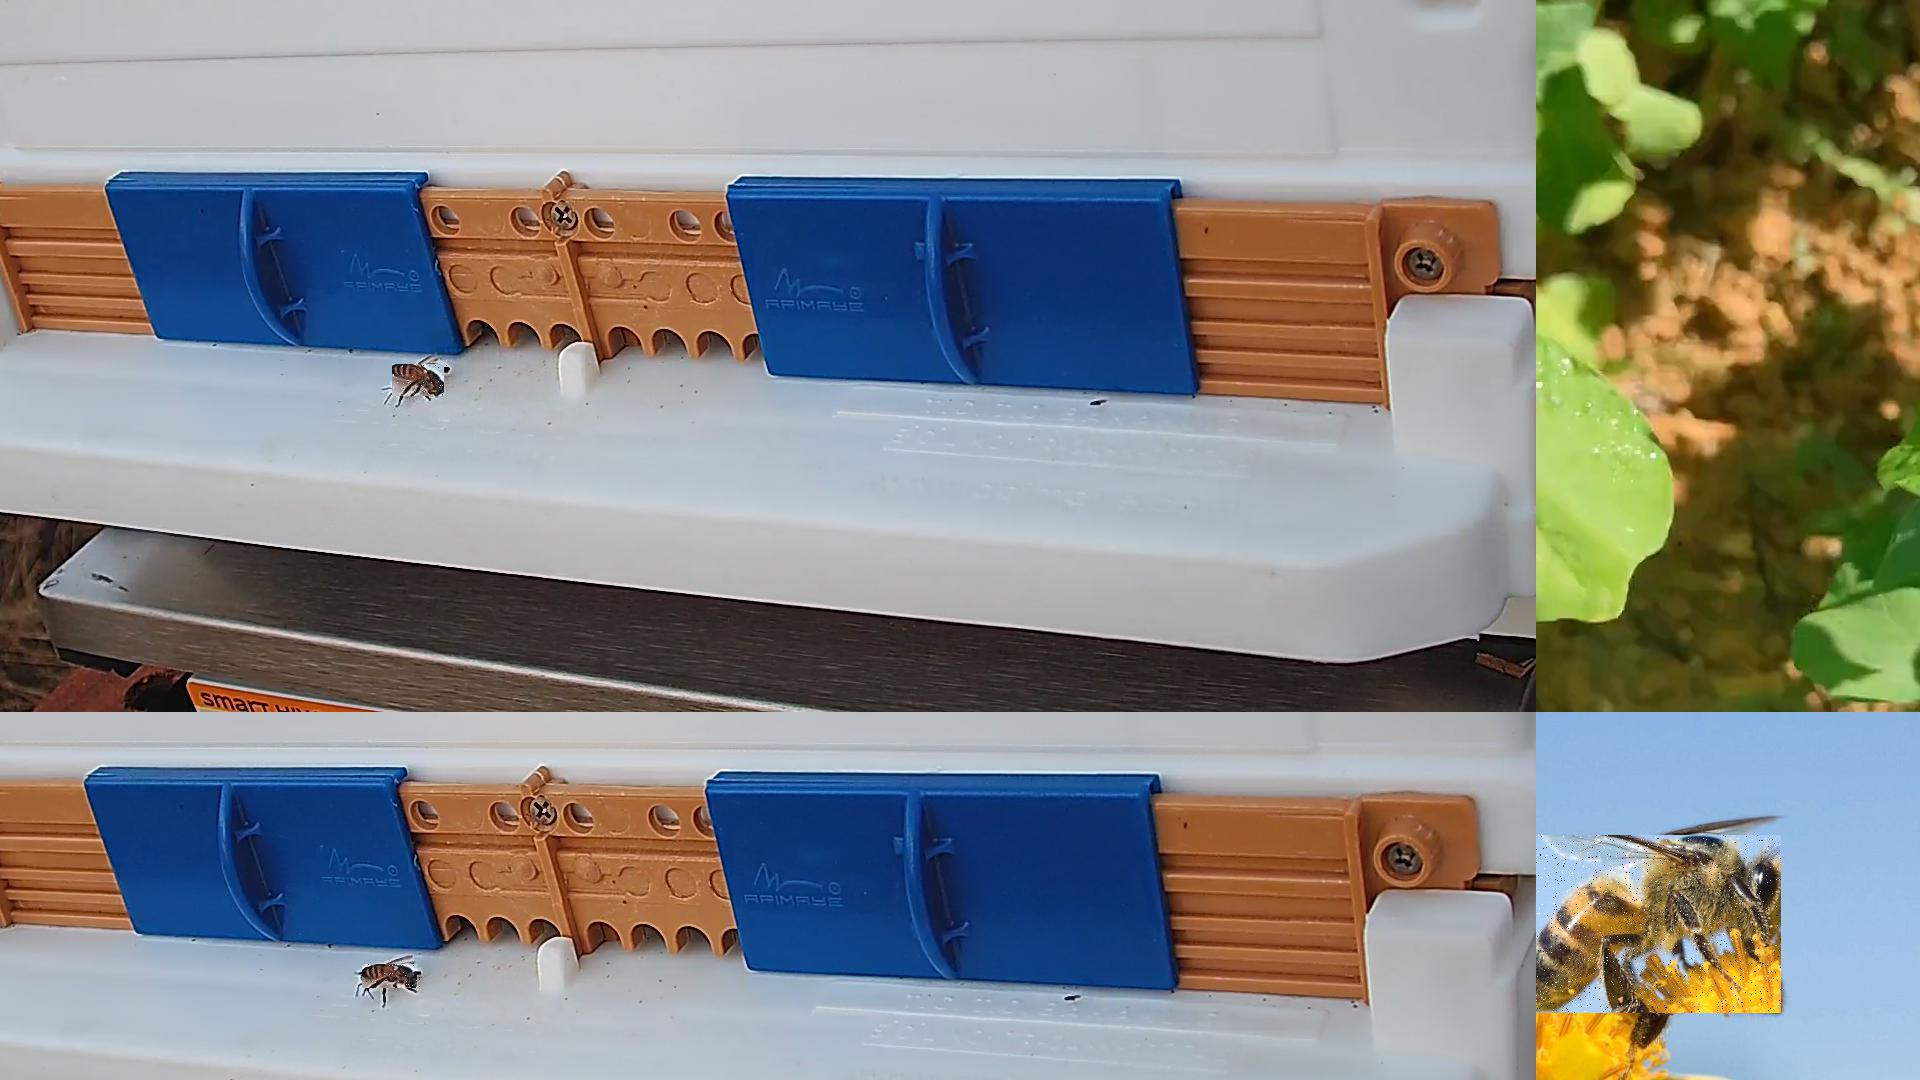bee: (1536, 835, 1783, 1015), (393, 364, 448, 397), (363, 964, 422, 989)
